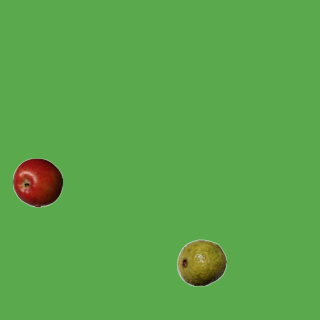Apple Braeburn: (12, 157, 62, 207)
Guava: (176, 237, 226, 287)
